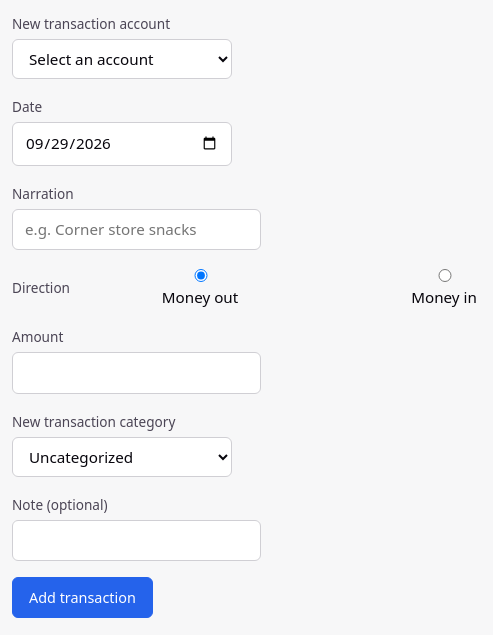
Test case: AddTransactionForm › resets narration, amount and note after a successful add, keeping the account and date
This screenshot has width=493, height=635.
Select "Cash" in the dropdown labelled "New transaction account" at (122, 59), box left=12, top=39, right=232, bottom=79
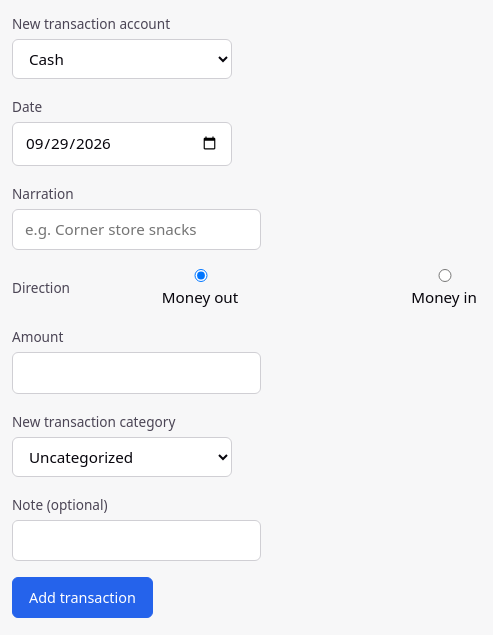
Type "Corner store" into the field labelled "Narration" at (136, 229), box left=12, top=209, right=261, bottom=250
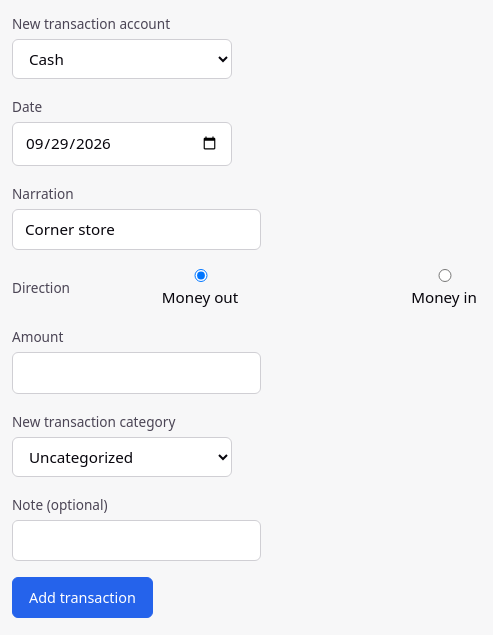
Type "12.50" into the number field labelled "Amount" at (136, 373), box left=12, top=352, right=261, bottom=394
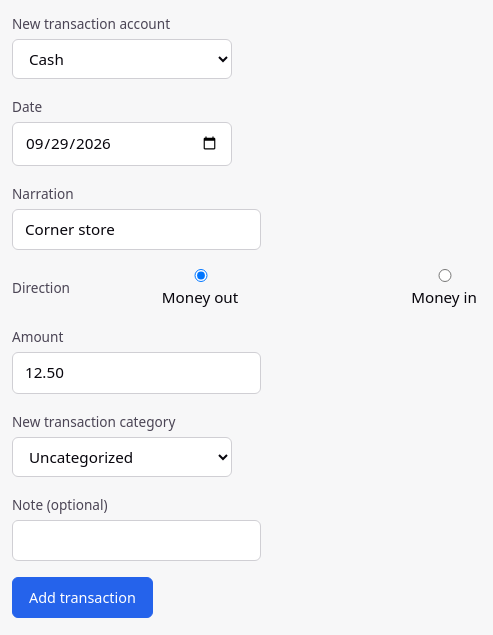
Click the button "Add transaction" at (82, 598), box left=12, top=577, right=153, bottom=618
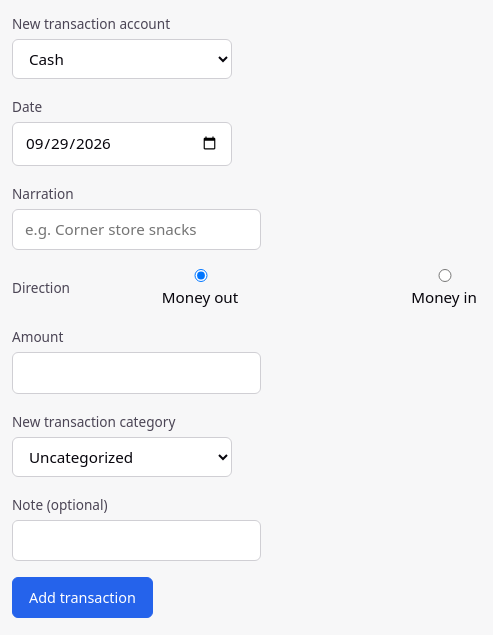
Expected: the field labelled "Narration" is empty, left=12, top=209, right=261, bottom=250
Expected: the number field labelled "Amount" is not empty, left=12, top=352, right=261, bottom=394
